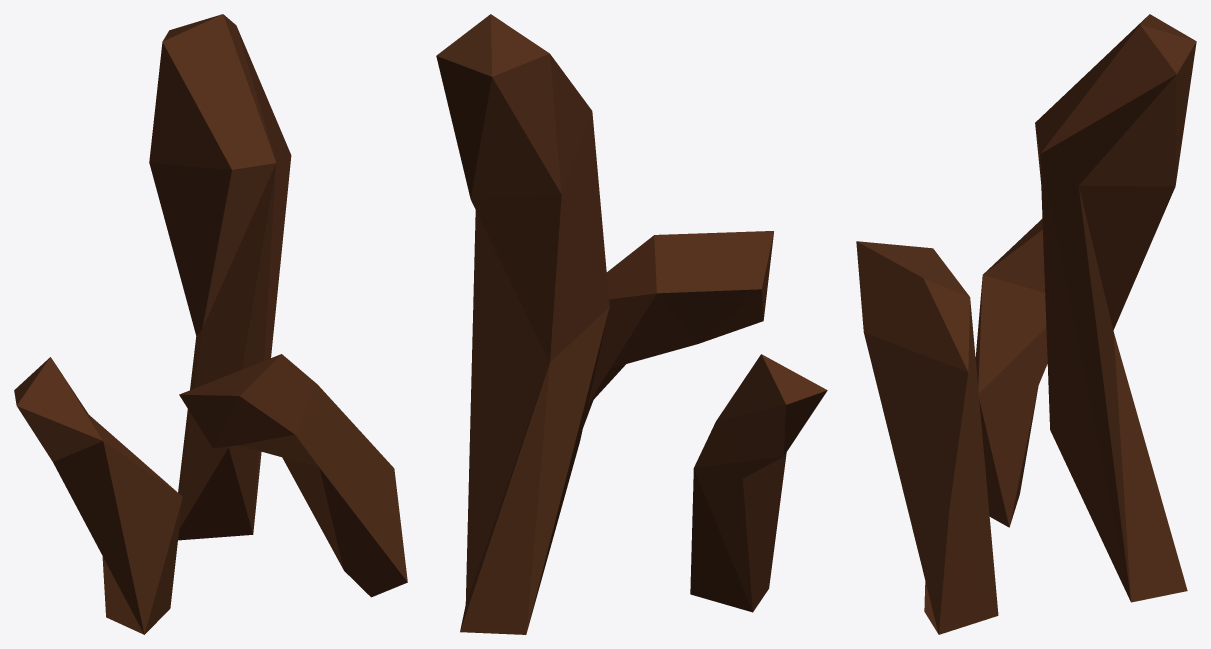
File: ShrubRoots01.fbx
3 views of the same model, side by side, from view 1: azimuth 30°, elevation 25°; view 2: azimuth 150°, elevation 25°; view 3: azimuth 270°, elevation 25° (orthographic). The views are drawn at different scales.
Parts seen in each view (by area): view 1: ShrubRoots01; view 2: ShrubRoots01; view 3: ShrubRoots01.
Part boxes in pixels (x1,y1,x2,y2): ShrubRoots01: (14,14,407,634); ShrubRoots01: (436,14,827,634); ShrubRoots01: (856,14,1196,634).
Size of the model in its own units: 30.03 by 44.06 by 24.09.
